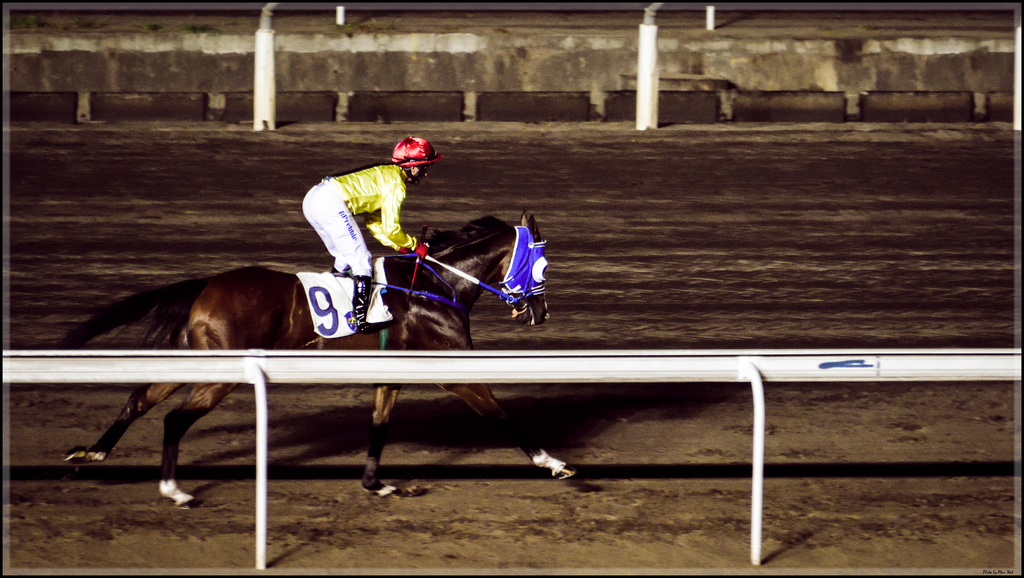horse: (55, 211, 576, 509)
